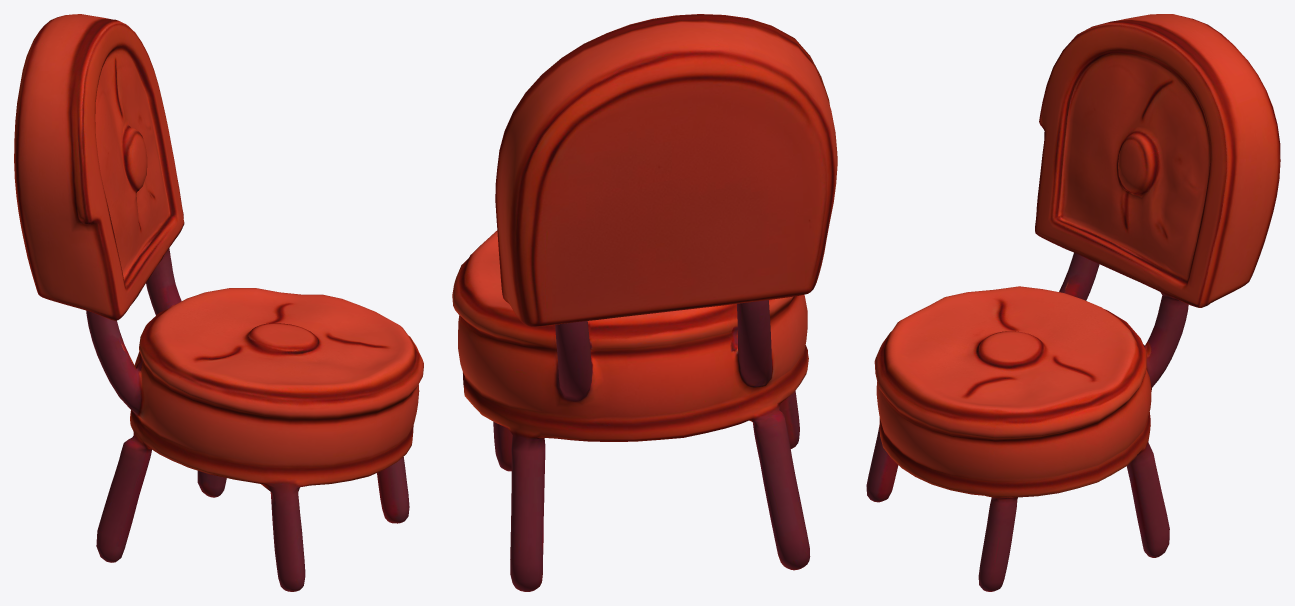
Rendered from silla.obj.
The picture shows the model from 3 angles, left to right: view 1: azimuth 30°, elevation 25°; view 2: azimuth 150°, elevation 25°; view 3: azimuth 270°, elevation 25°; orthographic projection. The views are drawn at different scales.
Parts seen in each view (by area): view 1: silla3:Mesh; view 2: silla3:Mesh; view 3: silla3:Mesh.
Part boxes in pixels (<box>): silla3:Mesh: <box>14,14,423,591</box>; silla3:Mesh: <box>452,14,837,591</box>; silla3:Mesh: <box>866,14,1280,591</box>.
Bounding box in the file's own units: 1.55 × 2.16 × 1.72.
Materials: 1 (1 with a texture image).
